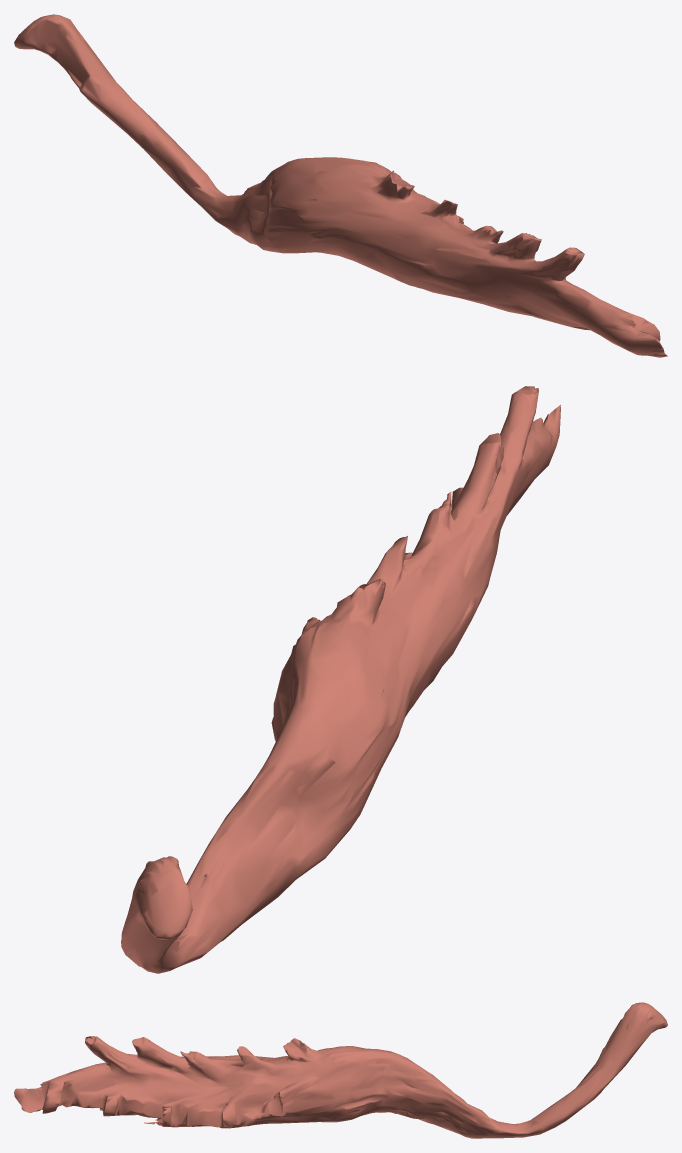
The picture shows the model from 3 angles, top to bottom: view 1: azimuth 30°, elevation 25°; view 2: azimuth 150°, elevation 25°; view 3: azimuth 270°, elevation 25°; orthographic projection. The views are drawn at different scales.
Visible parts, largest first — view 1: 右侧腰大肌; view 2: 右侧腰大肌; view 3: 右侧腰大肌.
Part boxes in pixels (x1,y1,x2,y2): 右侧腰大肌: (14,14,667,357); 右侧腰大肌: (121,386,560,973); 右侧腰大肌: (14,1002,667,1138).
Bounding box in the file's own units: 0.1471 × 0.115 × 0.5598.
